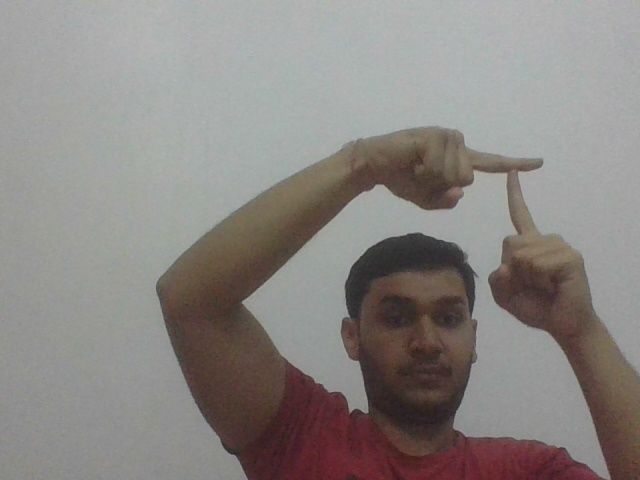T: (475, 146, 556, 231)
